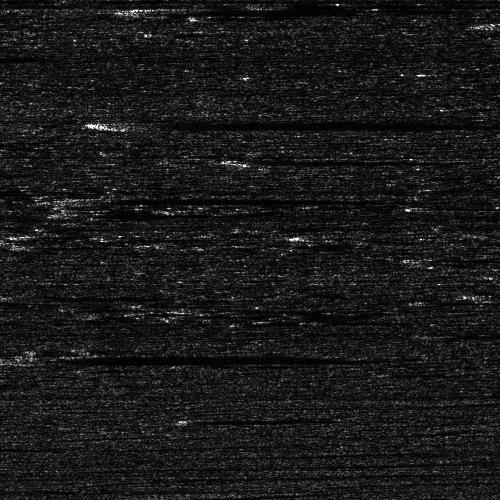object: (83, 0, 302, 16), (81, 118, 164, 129), (200, 156, 293, 165), (42, 193, 115, 204), (53, 207, 116, 218), (410, 330, 473, 339), (0, 354, 50, 363), (0, 291, 35, 300), (470, 21, 500, 28)
shadow: (193, 0, 442, 16), (123, 118, 458, 129), (79, 193, 404, 204), (13, 354, 328, 363), (85, 207, 272, 218), (247, 156, 445, 165), (9, 291, 187, 300), (441, 330, 500, 339), (0, 50, 31, 65)
